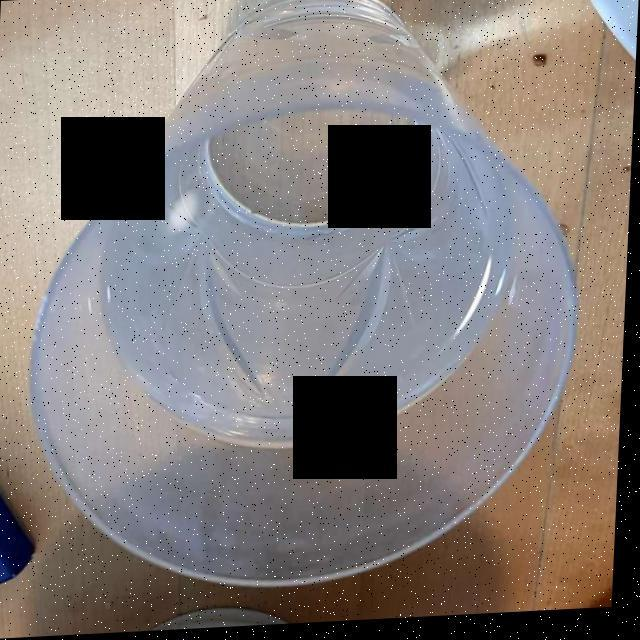water: (119, 65, 521, 448)
